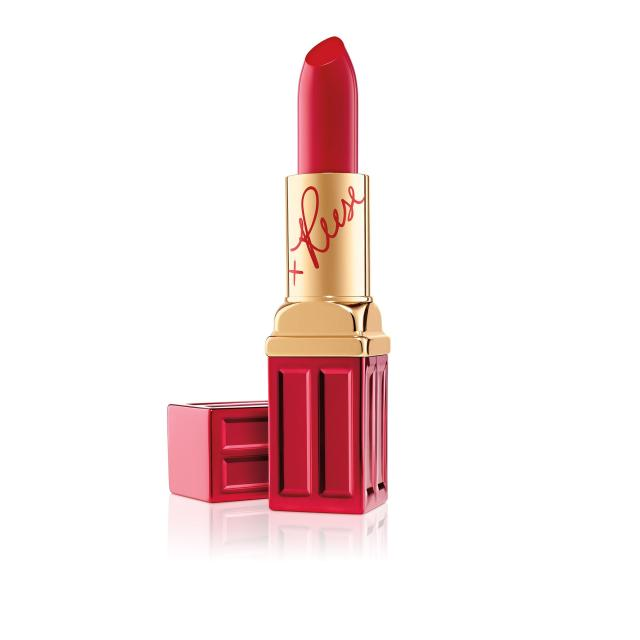lipstick: (250, 19, 424, 560)
